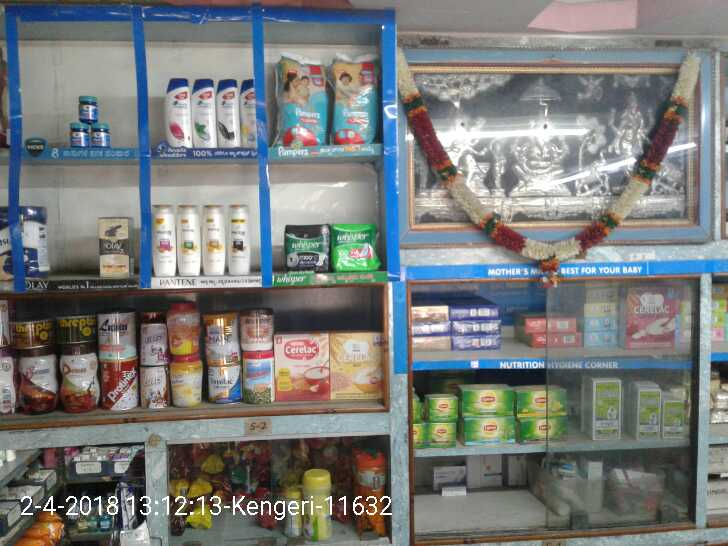vicks: (70, 123, 91, 148), (91, 123, 110, 146), (80, 97, 95, 120)
